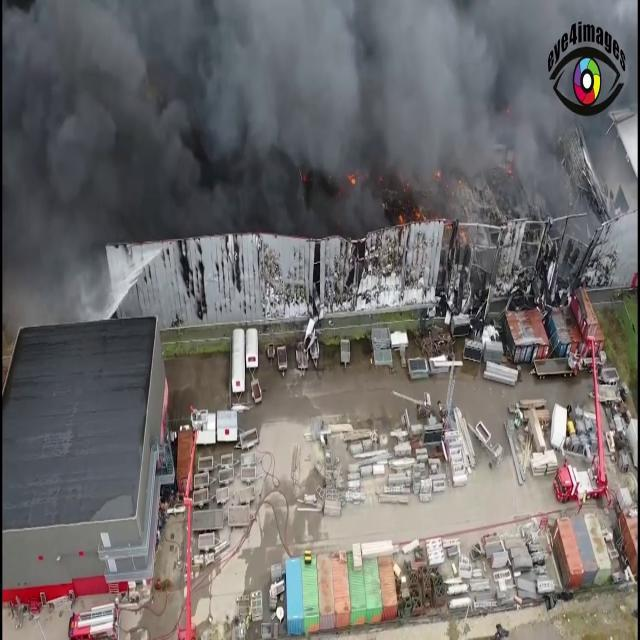Smoke: (3, 0, 623, 219)
